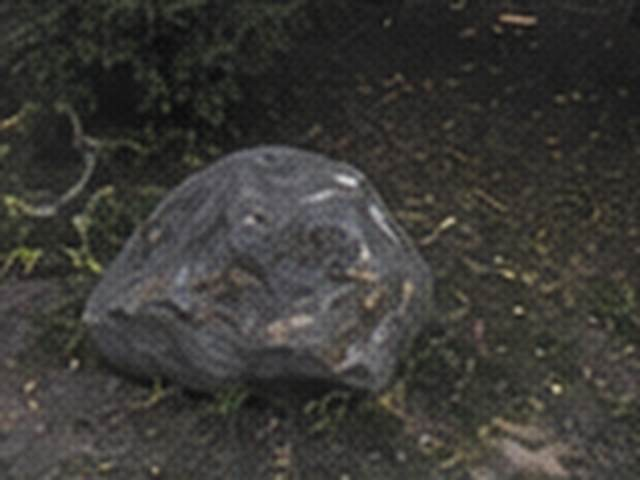tower: (83, 146, 432, 391)
